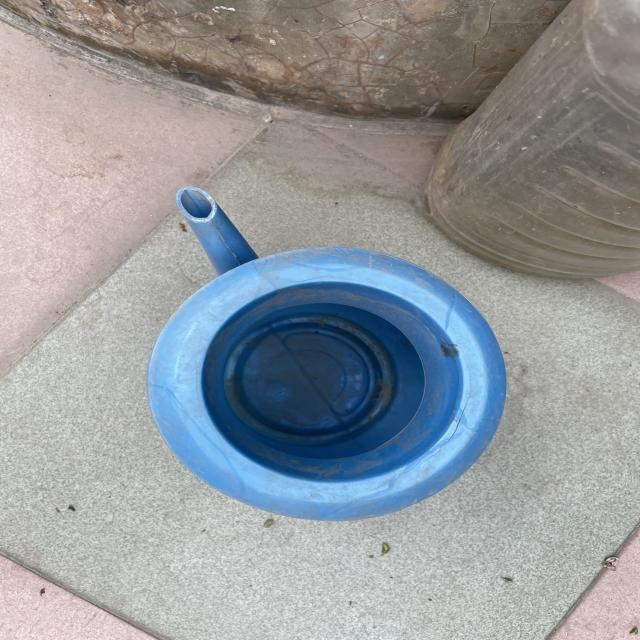Breeding Place: (147, 184, 529, 517)
